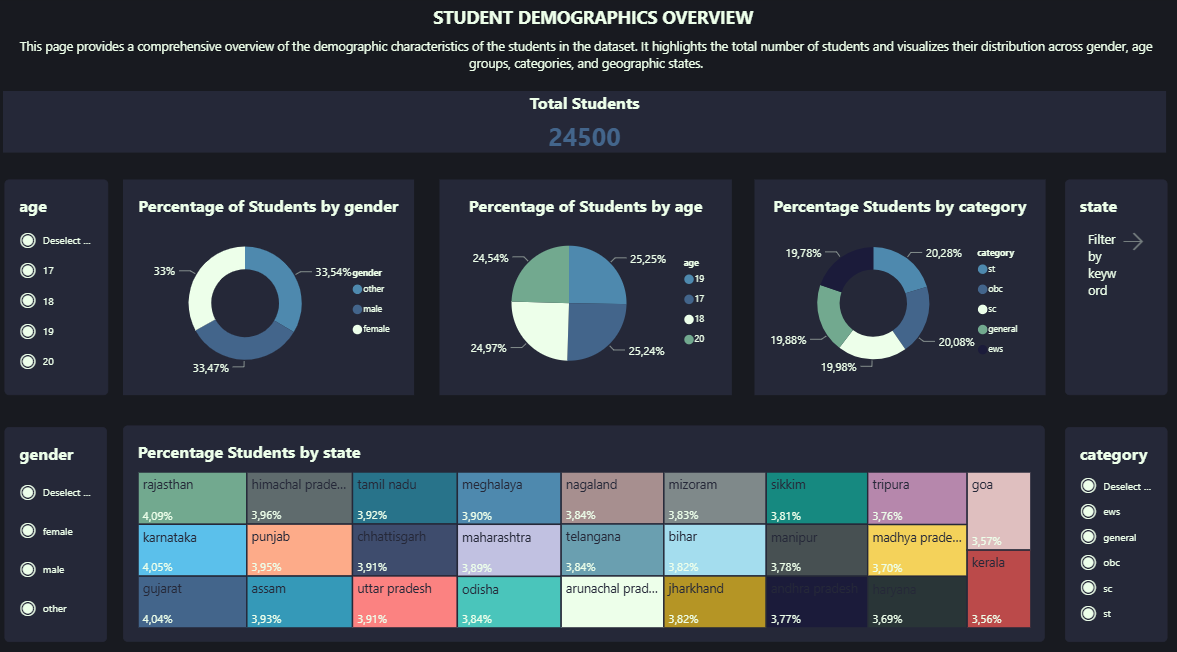

This screenshot's page, from the dashboard's own definition file:
{"tool":"powerbi","page":{"name":"Student Demographics","canvas":[1280,720],"ordinal":0},"visuals":[{"type":"listSlicer","fields":{"Values":["College_Admission_Clean.category"]},"box":[1145,457.7,108.4,228],"z":6000},{"type":"treemap","title":"Percentage  Students by state","fields":{"Group":["College_Admission_Clean.state"],"Values":["College_Admission_Clean.Total Students"]},"box":[146.7,456.1,977.6,229.6],"z":7156},{"type":"listSlicer","fields":{"Values":["College_Admission_Clean.gender"]},"box":[20.7,457.7,108.4,228],"z":7187},{"type":"textSlicer","fields":{"Values":["College_Admission_Clean.state"]},"box":[1145,195,108.3,228.3],"z":7218},{"type":"donutChart","title":"Percentage Students by category","fields":{"Category":["College_Admission_Clean.category"],"Y":["College_Admission_Clean.Total Students"]},"box":[816.7,195,308.3,228.3],"z":7250},{"type":"pieChart","title":"Percentage of Students by age","fields":{"Category":["College_Admission_Clean.age"],"Y":["College_Admission_Clean.Total Students"]},"box":[481.7,195,310,228.3],"z":7500},{"type":"donutChart","title":"Percentage of Students by gender","fields":{"Y":["College_Admission_Clean.Total Students"],"Category":["College_Admission_Clean.gender"]},"box":[146.7,195,308.3,228.3],"z":7937},{"type":"listSlicer","fields":{"Values":["College_Admission_Clean.age"]},"box":[20,195,110,228.3],"z":8000},{"type":"card","title":"Total Students","fields":{"Values":["College_Admission_Clean.Total Students"]},"box":[18.3,101.7,1233.3,65],"z":9000},{"type":"textbox","box":[20,45,1233.3,43.3],"z":9500},{"type":"textbox","box":[20,11.7,1248.3,33.3],"z":10000}]}

Visuals, with their boxes in screenshot pixels (x1, y1, x2, y2), scaled from the page's 1280x720 canvas onto the 1177x652 screenshot:
listSlicer - College_Admission_Clean.category: select_region(1053, 414, 1153, 621)
"Percentage  Students by state" treemap: select_region(135, 413, 1034, 621)
listSlicer - College_Admission_Clean.gender: select_region(19, 414, 119, 621)
textSlicer - College_Admission_Clean.state: select_region(1053, 177, 1152, 383)
"Percentage Students by category" donutChart: select_region(751, 177, 1034, 383)
"Percentage of Students by age" pieChart: select_region(443, 177, 728, 383)
"Percentage of Students by gender" donutChart: select_region(135, 177, 418, 383)
listSlicer - College_Admission_Clean.age: select_region(18, 177, 120, 383)
"Total Students" card: select_region(17, 92, 1151, 151)
textbox: select_region(18, 41, 1152, 80)
textbox: select_region(18, 11, 1166, 41)
